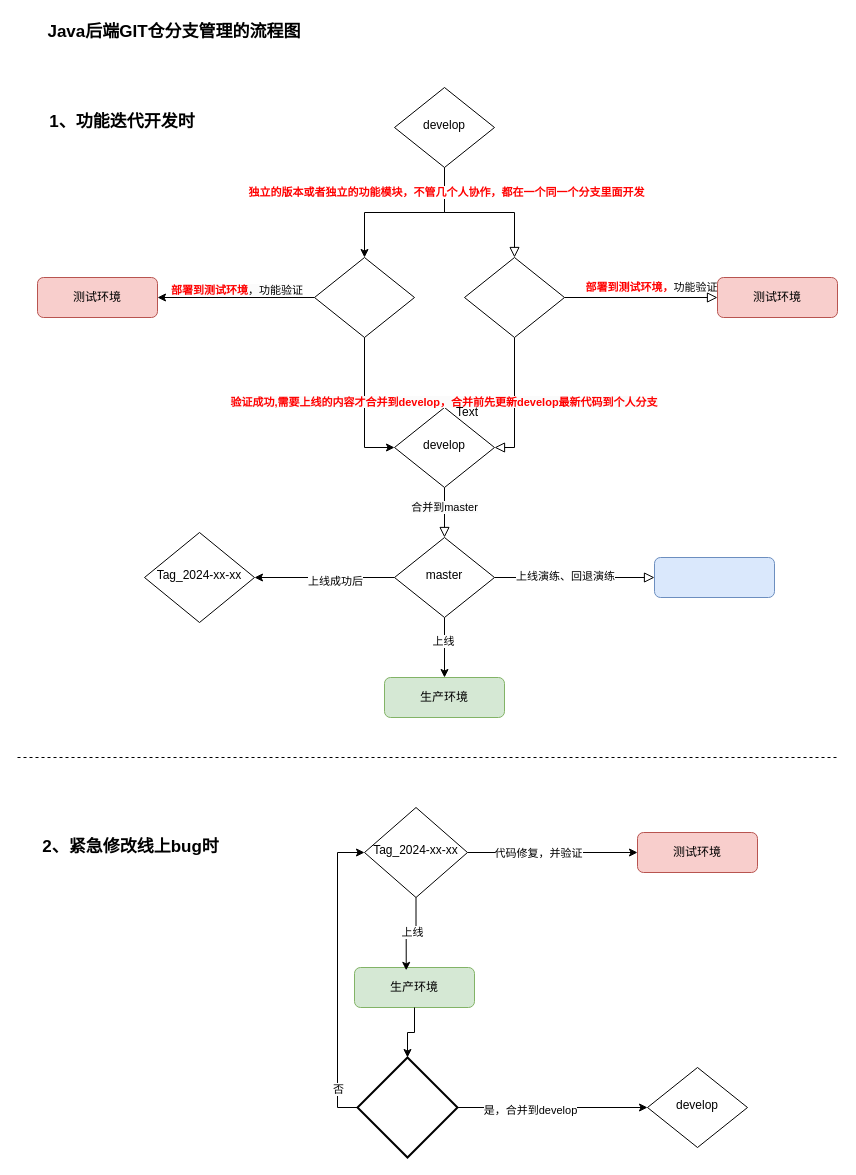
Image size: 856x1175. Some labels were removed from this diagram. Here are the shapes that lost their labels. From the top down, the centre of each, then its label:
At (364,297): "develop-yyy".
At (514,297): "develop-xxx".
At (714,577): "预生产环境".
At (407,1107): "上线成功？".
